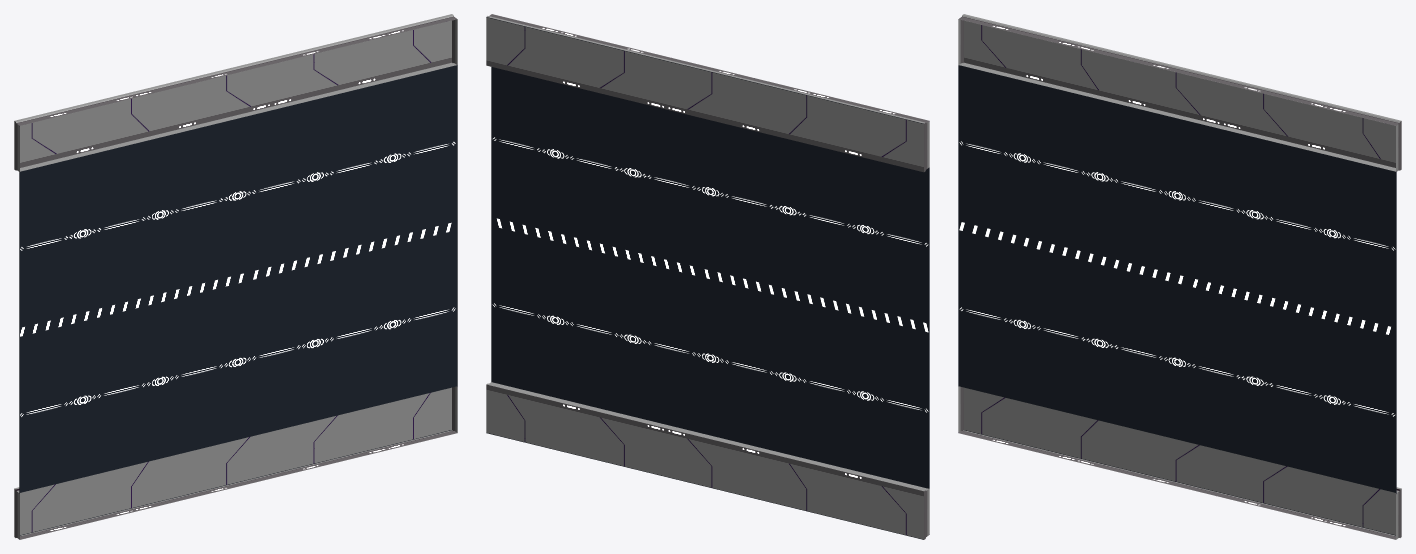
Rendered from SM_L_Road2.fbx.
The picture shows the model from 3 angles, left to right: view 1: azimuth 30°, elevation 25°; view 2: azimuth 150°, elevation 25°; view 3: azimuth 330°, elevation 25°; orthographic projection.
Visible parts, largest first — view 1: SM_L_Road2; view 2: SM_L_Road2; view 3: SM_L_Road2.
Boxes of the visible parts, x1,y1,x2,y2 form: SM_L_Road2: (14, 14, 457, 539); SM_L_Road2: (486, 14, 929, 539); SM_L_Road2: (958, 14, 1401, 539).
Bounding box in the file's own units: 5418 × 4923 × 119.
